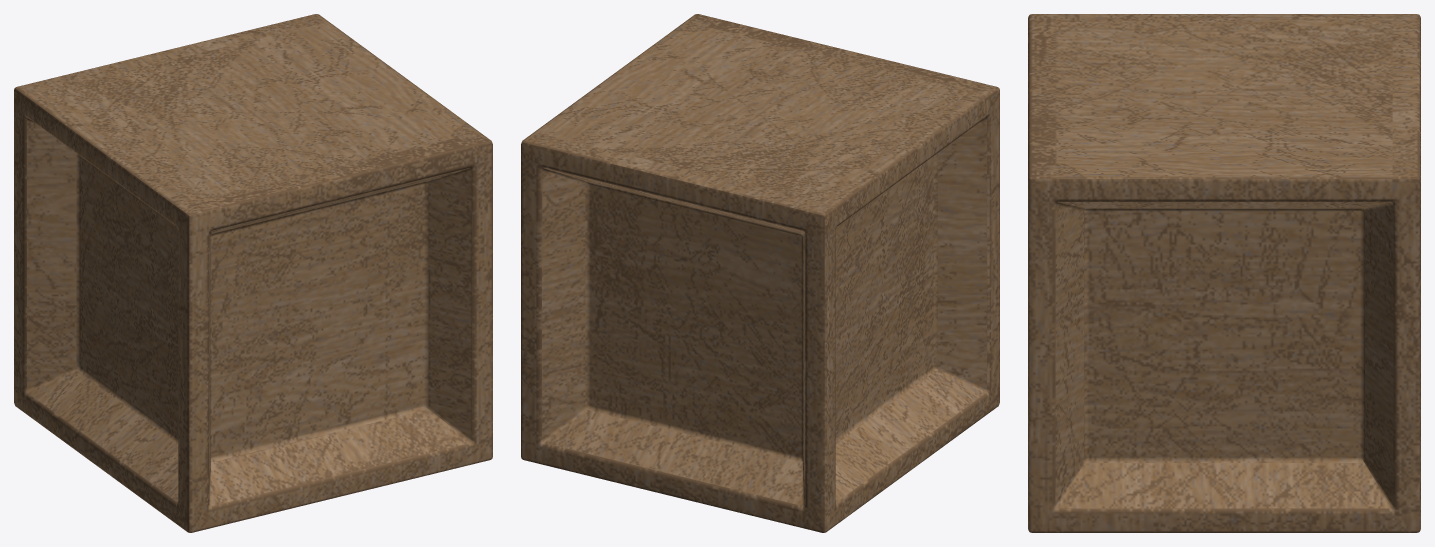
File: jump_box.glb
3 views of the same model, side by side, from view 1: azimuth 30°, elevation 25°; view 2: azimuth 150°, elevation 25°; view 3: azimuth 270°, elevation 25° (orthographic). The views are drawn at different scales.
Parts seen in each view (by area): view 1: box; view 2: box; view 3: box.
Part boxes in pixels (box(x1,y1,x2,y2)): box: box(14, 14, 492, 532); box: box(521, 14, 999, 532); box: box(1028, 14, 1420, 532).
Size of the model in its own units: 0.6738 by 0.6738 by 0.6738.
1 material, 1 textured.
